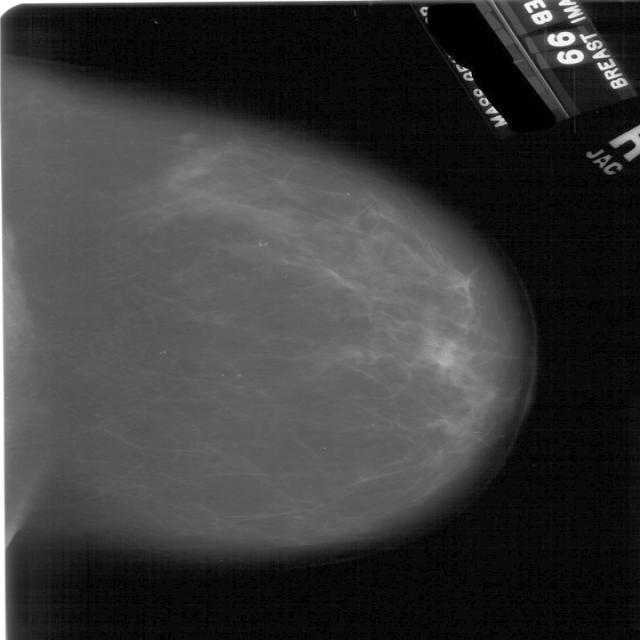tumour: (176, 130, 199, 145)
